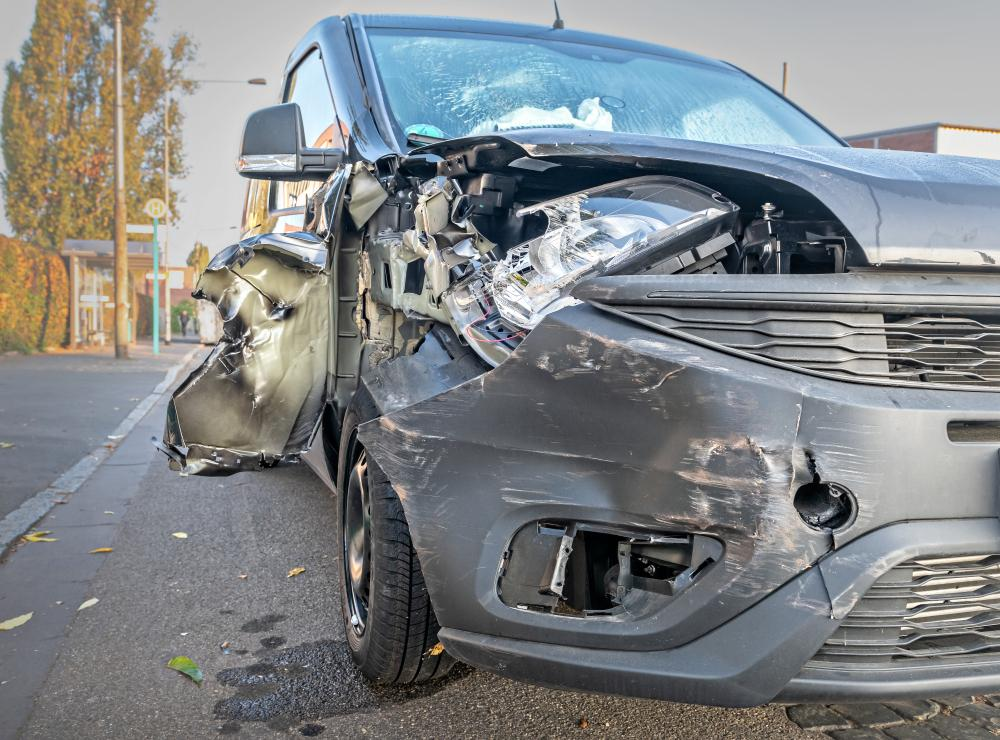dent: (389, 327, 683, 510), (184, 236, 329, 462)
glass shatter: (367, 28, 846, 154)
lamp broken: (489, 174, 752, 328)
scratch: (674, 431, 828, 613), (816, 415, 880, 535)
